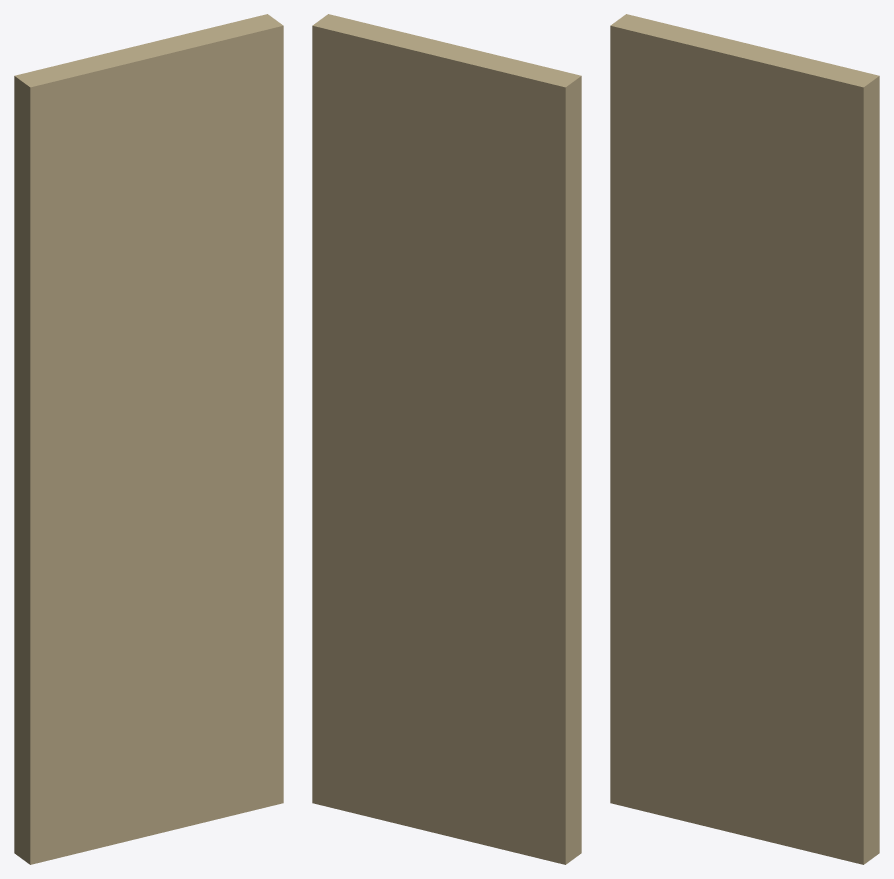
3 views of the same model, side by side, from view 1: azimuth 30°, elevation 25°; view 2: azimuth 150°, elevation 25°; view 3: azimuth 330°, elevation 25° (orthographic).
Parts seen in each view (by area): view 1: GF-W064; view 2: GF-W064; view 3: GF-W064.
Boxes of the visible parts, x1,y1,x2,y2 form: GF-W064: (14, 14, 283, 864); GF-W064: (312, 14, 581, 864); GF-W064: (610, 14, 879, 864).
Bounding box in the file's own units: 0.825 × 2.42 × 0.09.
